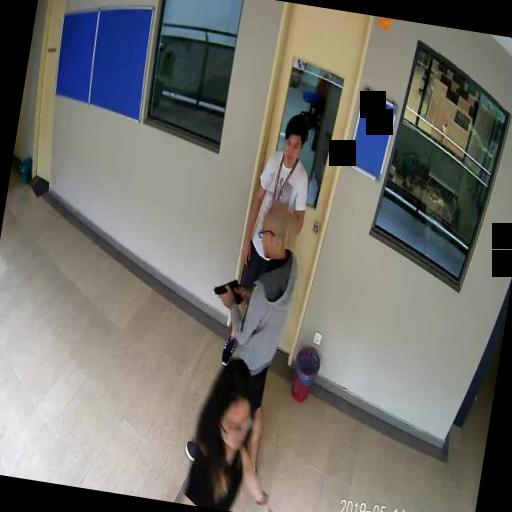Handgun: (210, 274, 244, 306)
